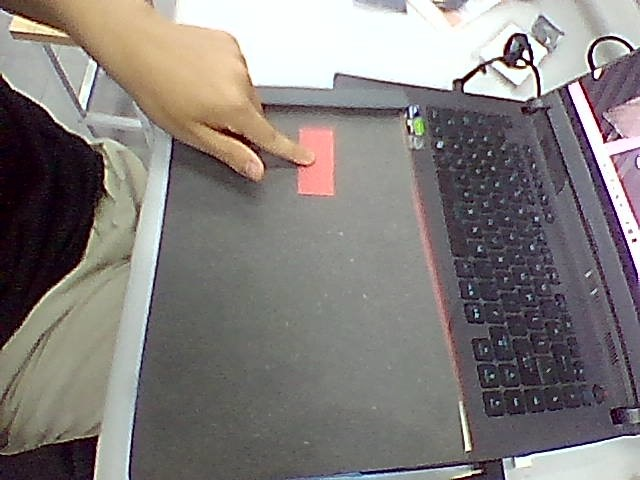card: (298, 127, 334, 194)
